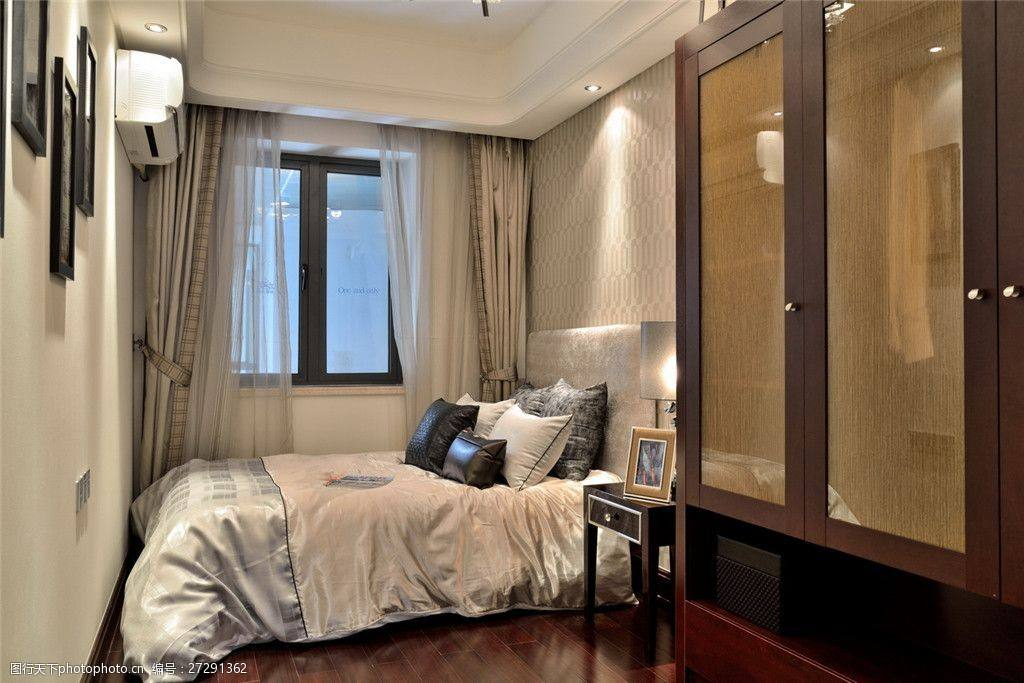床: (118, 451, 619, 658)
枕头: (408, 384, 611, 484)
灯: (637, 323, 677, 428), (139, 21, 171, 37), (918, 42, 944, 57), (583, 84, 603, 97)
